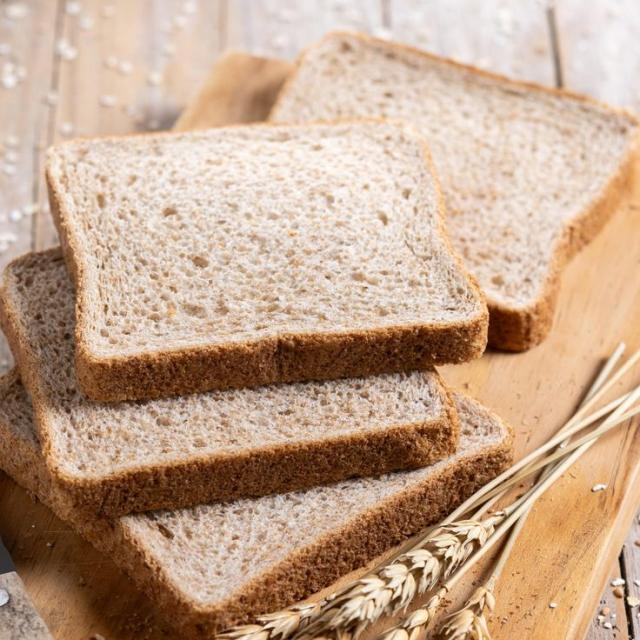sliced_bread: (0, 374, 512, 639), (47, 119, 487, 399), (3, 250, 455, 514), (270, 33, 639, 350)
